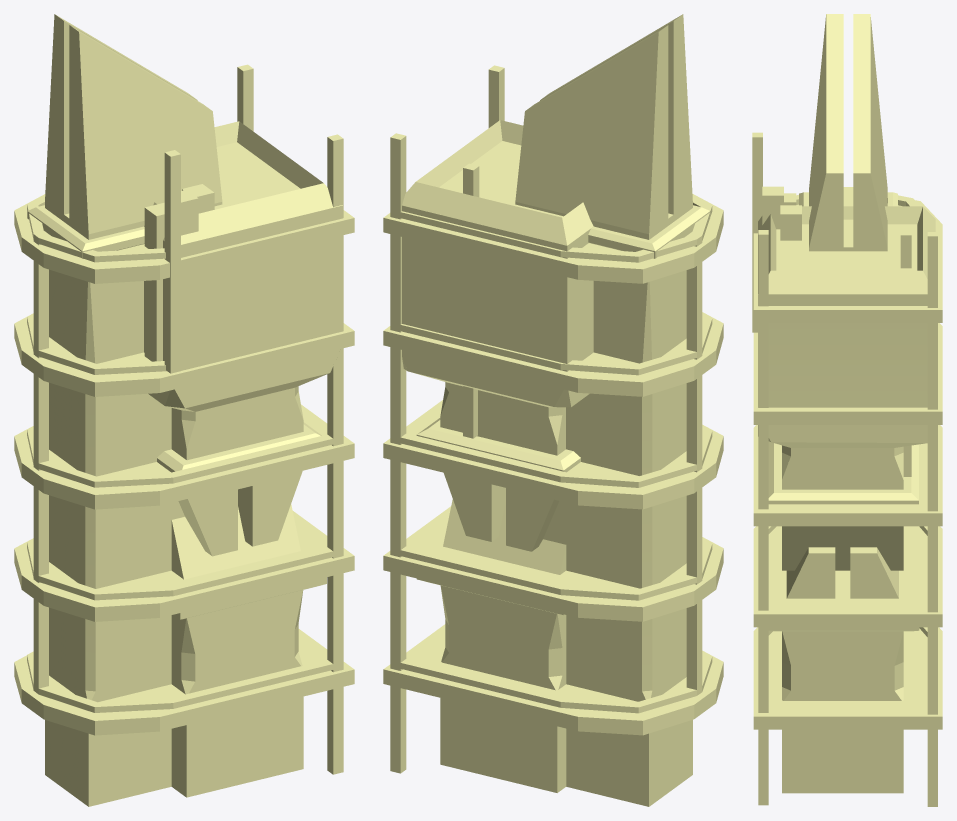
File: MangaKa Props - F_S_ScifiBuilding_21.glb
The picture shows the model from 3 angles, left to right: view 1: azimuth 30°, elevation 25°; view 2: azimuth 150°, elevation 25°; view 3: azimuth 270°, elevation 25°; orthographic projection. The views are drawn at different scales.
Visible parts, largest first — view 1: F_S_ScifiBuilding_21002_blueScreen, F_S_ScifiBuilding_21_blueScreen, F_S_ScifiBuilding_21003_blueScreen, F_S_ScifiBuilding_21001_blueScreen; view 2: F_S_ScifiBuilding_21002_blueScreen, F_S_ScifiBuilding_21_blueScreen, F_S_ScifiBuilding_21003_blueScreen, F_S_ScifiBuilding_21001_blueScreen; view 3: F_S_ScifiBuilding_21_blueScreen, F_S_ScifiBuilding_21003_blueScreen, F_S_ScifiBuilding_21002_blueScreen, F_S_ScifiBuilding_21001_blueScreen.
Boxes of the visible parts, x1,y1,x2,y2 form: F_S_ScifiBuilding_21002_blueScreen: (27,14,343,806); F_S_ScifiBuilding_21_blueScreen: (144,142,342,797); F_S_ScifiBuilding_21003_blueScreen: (14,194,354,735); F_S_ScifiBuilding_21001_blueScreen: (27,121,342,619); F_S_ScifiBuilding_21002_blueScreen: (390,14,712,806); F_S_ScifiBuilding_21_blueScreen: (402,141,593,792); F_S_ScifiBuilding_21003_blueScreen: (383,193,723,735); F_S_ScifiBuilding_21001_blueScreen: (402,120,710,614); F_S_ScifiBuilding_21_blueScreen: (758,224,927,793); F_S_ScifiBuilding_21003_blueScreen: (753,200,942,729); F_S_ScifiBuilding_21002_blueScreen: (758,14,937,806); F_S_ScifiBuilding_21001_blueScreen: (752,132,935,631).
Size of the model in its own units: 5.98 by 16.28 by 4.06.
